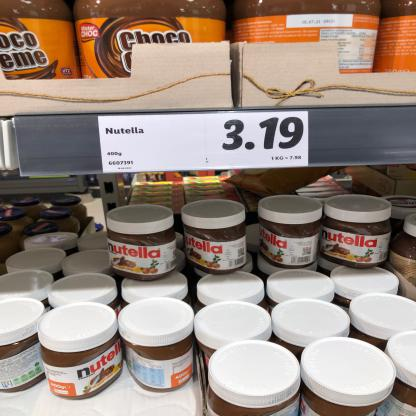prtg: (99, 112, 310, 174)
